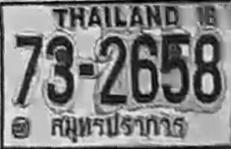2: (96, 36, 126, 106)
3: (45, 36, 74, 104)
5: (161, 33, 190, 103)
6: (130, 34, 158, 102)
7: (14, 34, 42, 106)
8: (193, 34, 222, 104)
SPK: (50, 111, 190, 143)
